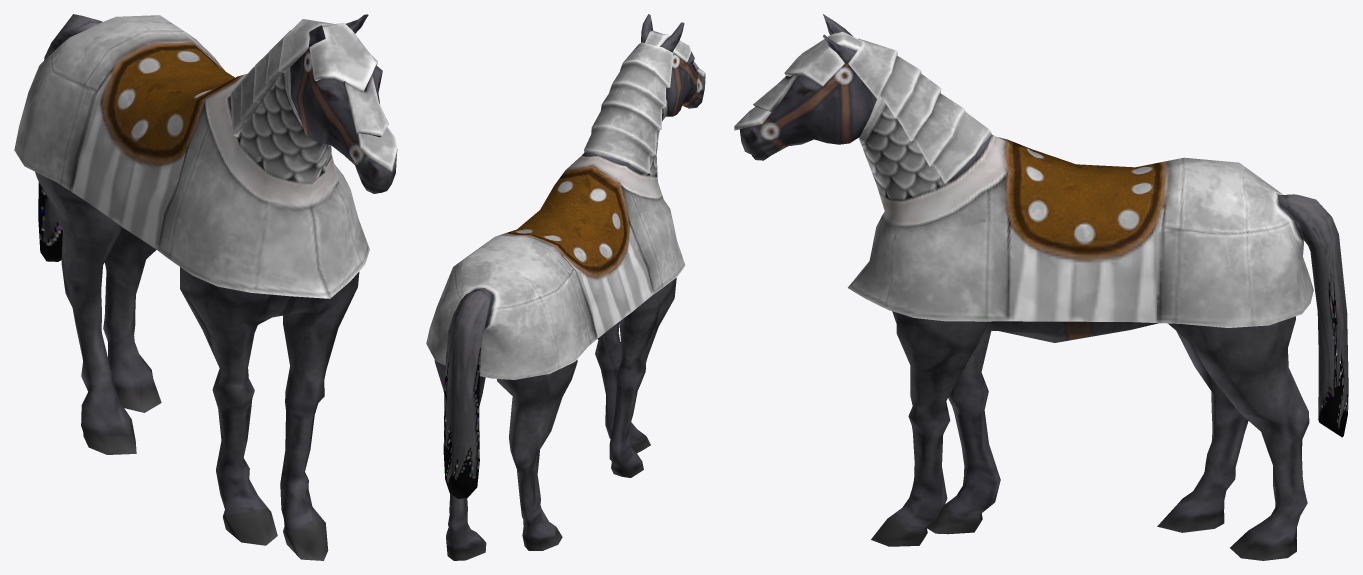
File: body-championcavalry.glb
3 views of the same model, side by side, from view 1: azimuth 30°, elevation 25°; view 2: azimuth 150°, elevation 25°; view 3: azimuth 270°, elevation 25° (orthographic). The views are drawn at different scales.
Size of the model in its own units: 0.9048 by 2.51 by 2.72.
1 material, 1 textured.
